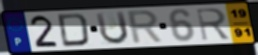2: (28, 14, 59, 49)
6: (167, 7, 197, 44)
D: (56, 12, 92, 48)
R: (126, 8, 165, 46), (194, 7, 232, 42)
U: (94, 10, 131, 47)
